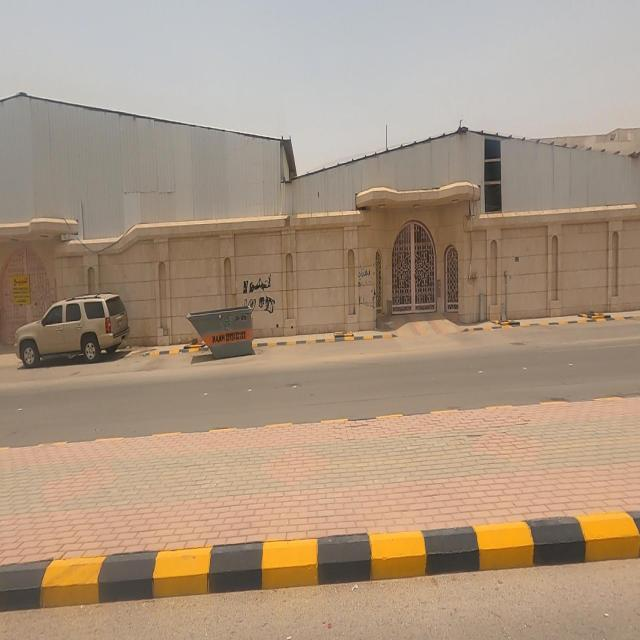Graffiti: (359, 266, 377, 311), (244, 275, 272, 295), (252, 295, 276, 317)
